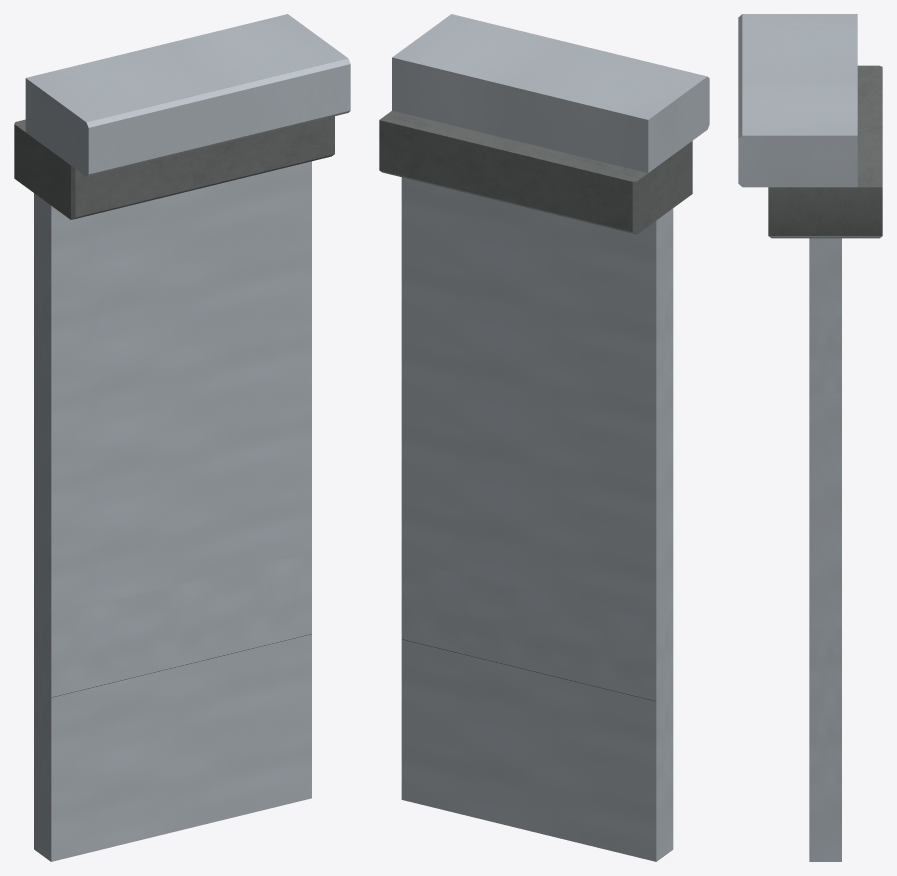
The model's file is ShuttersSegments_2.fbx.
The picture shows the model from 3 angles, left to right: view 1: azimuth 30°, elevation 25°; view 2: azimuth 150°, elevation 25°; view 3: azimuth 270°, elevation 25°; orthographic projection. The views are drawn at different scales.
Parts seen in each view (by area): view 1: ShuttersSegments_2; view 2: ShuttersSegments_2; view 3: ShuttersSegments_2.
Boxes of the visible parts, bbox=[...] form: ShuttersSegments_2: bbox=[14, 14, 350, 861]; ShuttersSegments_2: bbox=[379, 14, 709, 861]; ShuttersSegments_2: bbox=[738, 14, 882, 861].
Size of the model in its own units: 1.01 by 2.81 by 0.5058.
